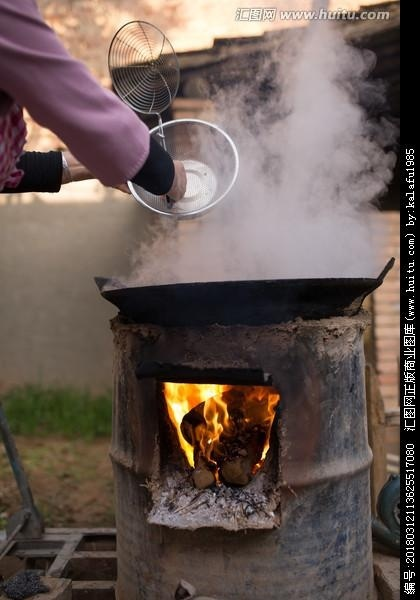fire: (161, 381, 273, 467)
